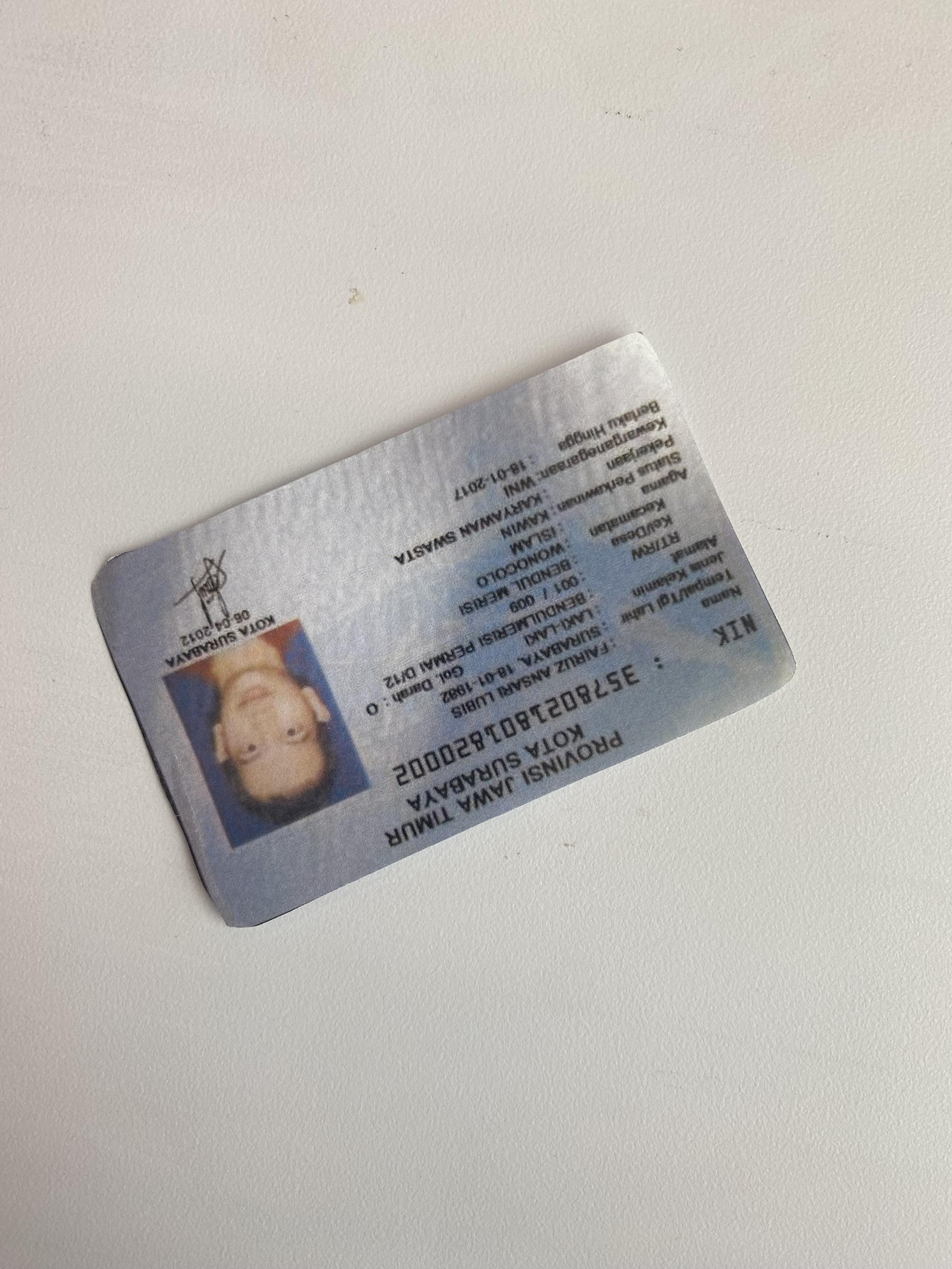ktp: (83, 320, 806, 935)
